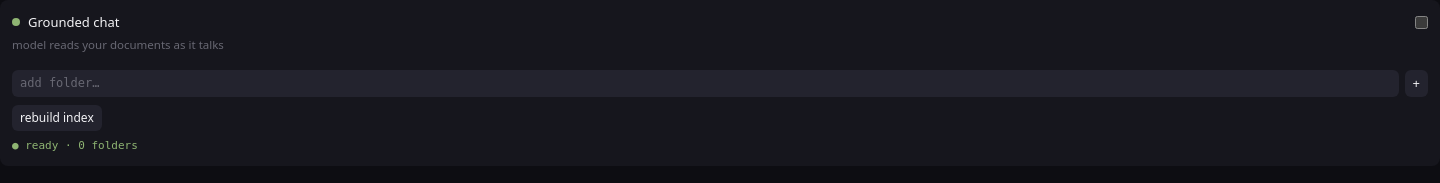
Test: the grounding card's rebuild control › POSTs /api/rag/reindex exactly once and acknowledges the 202
This screenshot has width=1440, height=183.
What coordinates should you click on to do the following:
click the button "rebuild index"
I would click on:
 (57, 118)
Its box is [12, 104, 102, 131].
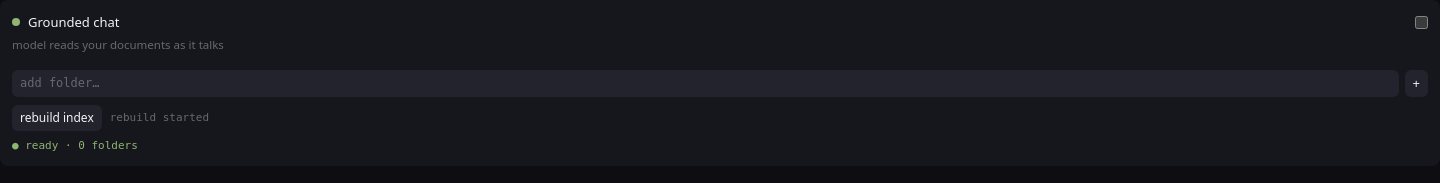
Expected: the text "rebuild started" is shown, [110, 109, 209, 126]
